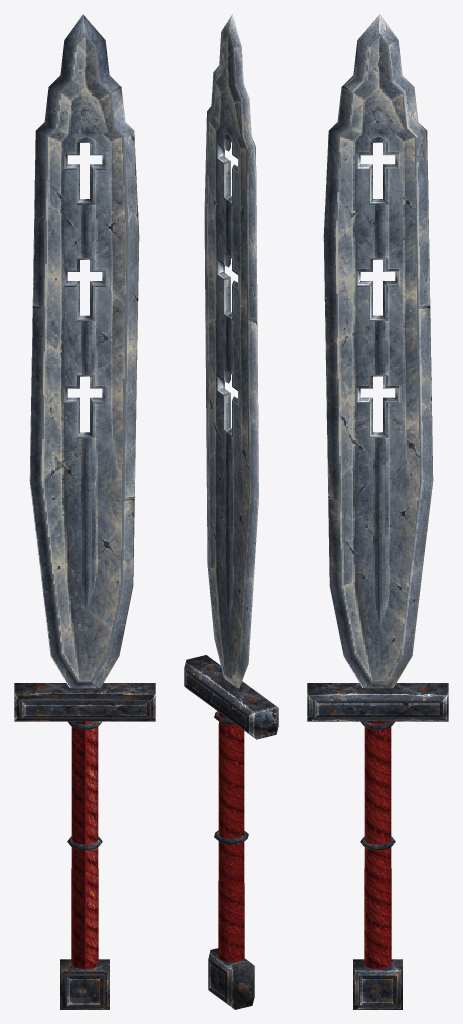
The model's file is penitents_greatsword.glb.
3 views of the same model, side by side, from view 1: azimuth 90°, elevation 25°; view 2: azimuth 210°, elevation 25°; view 3: azimuth 270°, elevation 25° (orthographic).
Visible parts, largest first — view 1: penitents_greatsword; view 2: penitents_greatsword; view 3: penitents_greatsword.
Boxes of the visible parts, x1=… form: penitents_greatsword: x1=14, y1=14, x2=155, y2=1009; penitents_greatsword: x1=184, y1=14, x2=278, y2=1009; penitents_greatsword: x1=307, y1=14, x2=448, y2=1009.
Size of the model in its own units: 0.042 by 1.32 by 0.17.
Materials: 1 (1 with a texture image).
